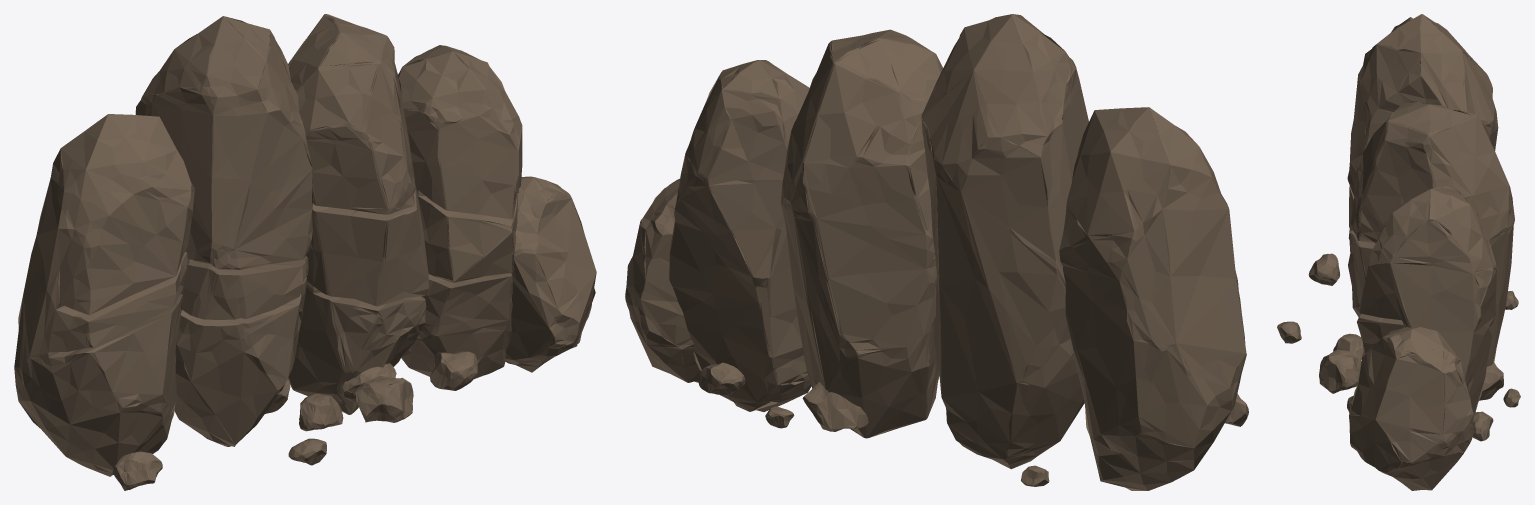
File: SM_Cliff_Wall_02.fbx
The picture shows the model from 3 angles, left to right: view 1: azimuth 30°, elevation 25°; view 2: azimuth 150°, elevation 25°; view 3: azimuth 270°, elevation 25°; orthographic projection. The views are drawn at different scales.
Visible parts, largest first — view 1: SM_Cliff_Wall_02; view 2: SM_Cliff_Wall_02; view 3: SM_Cliff_Wall_02.
Part boxes in pixels (bbox=[...]): SM_Cliff_Wall_02: bbox=[14, 14, 596, 490]; SM_Cliff_Wall_02: bbox=[625, 14, 1248, 490]; SM_Cliff_Wall_02: bbox=[1277, 14, 1520, 490].
Bounding box in the file's own units: 560 × 251 × 407.
